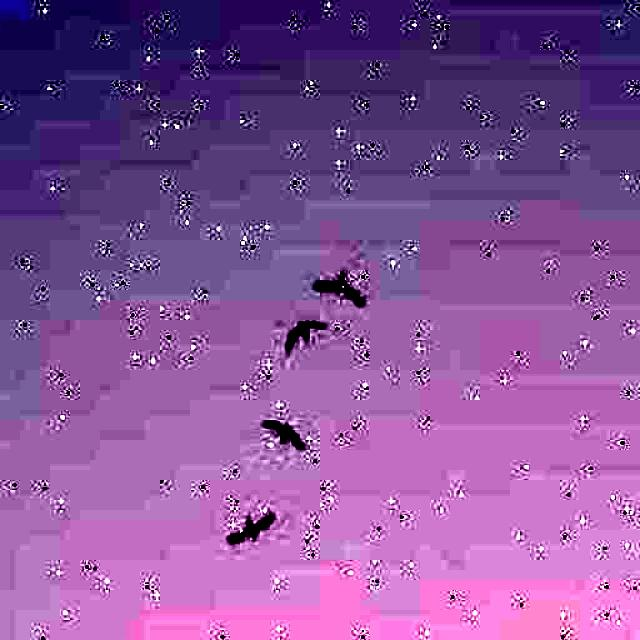airplane: (312, 266, 365, 306), (285, 318, 325, 356), (262, 418, 306, 450), (229, 512, 272, 544)
